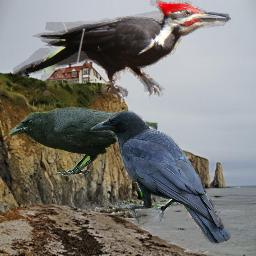Crow: (90, 110, 232, 248), (8, 107, 158, 177)
Woodpecker: (13, 0, 231, 106)
